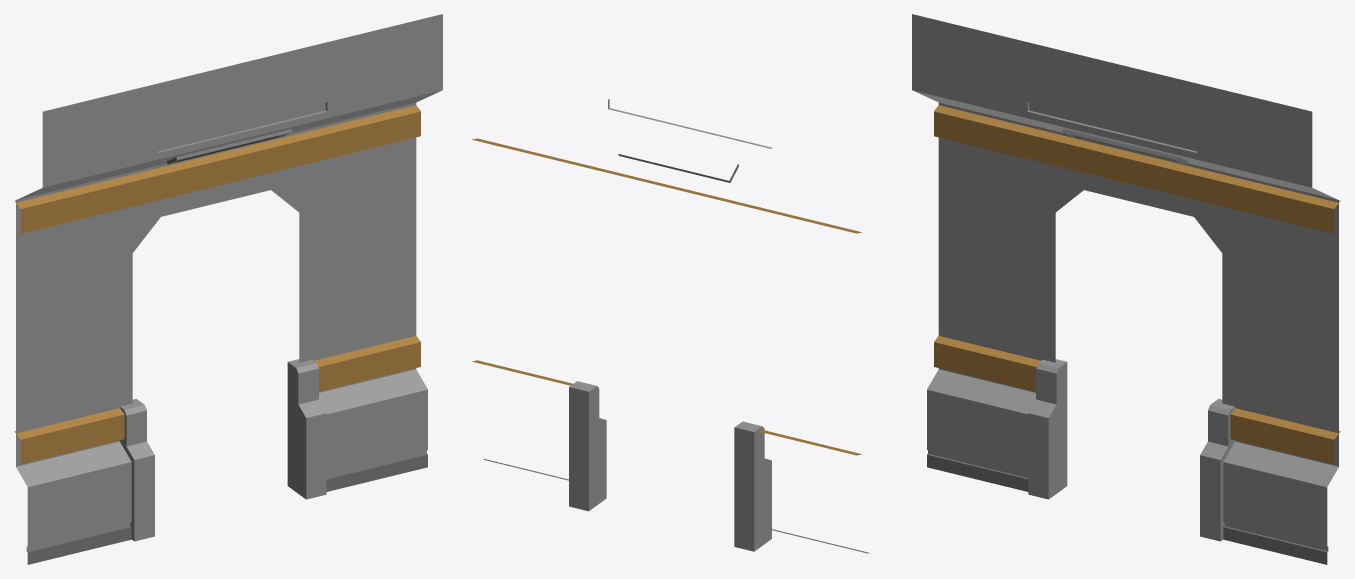
File: DoorSingle_Wall_SideB.glb
3 renders of one model, left to right at view 1: azimuth 30°, elevation 25°; view 2: azimuth 150°, elevation 25°; view 3: azimuth 330°, elevation 25°, orthographic. The views are drawn at different scales.
Visible parts, largest first — view 1: DoorSingle_Wall_SideB_Plane.023; view 2: DoorSingle_Wall_SideB_Plane.023; view 3: DoorSingle_Wall_SideB_Plane.023.
Boxes of the visible parts, left/top/right/bottom form: DoorSingle_Wall_SideB_Plane.023: left=14, top=14, right=442, bottom=564; DoorSingle_Wall_SideB_Plane.023: left=471, top=99, right=869, bottom=553; DoorSingle_Wall_SideB_Plane.023: left=912, top=14, right=1340, bottom=564.
Bounding box in the file's own units: 4 × 4.43 × 0.5307.
